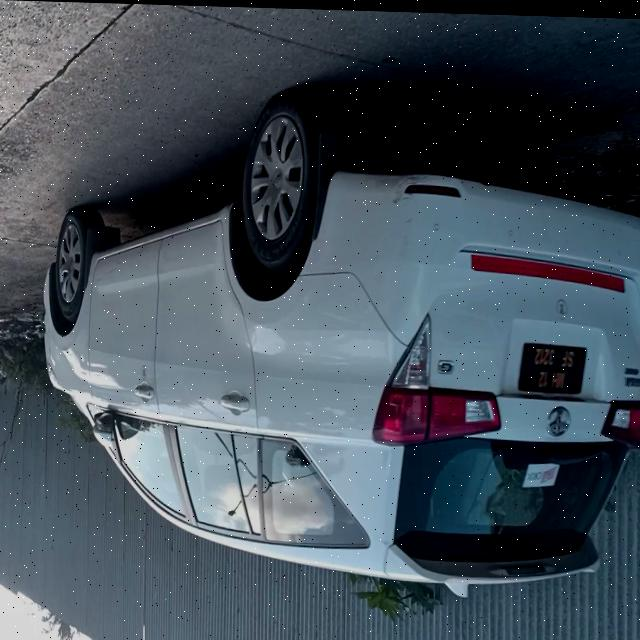plate: (518, 339, 588, 393)
